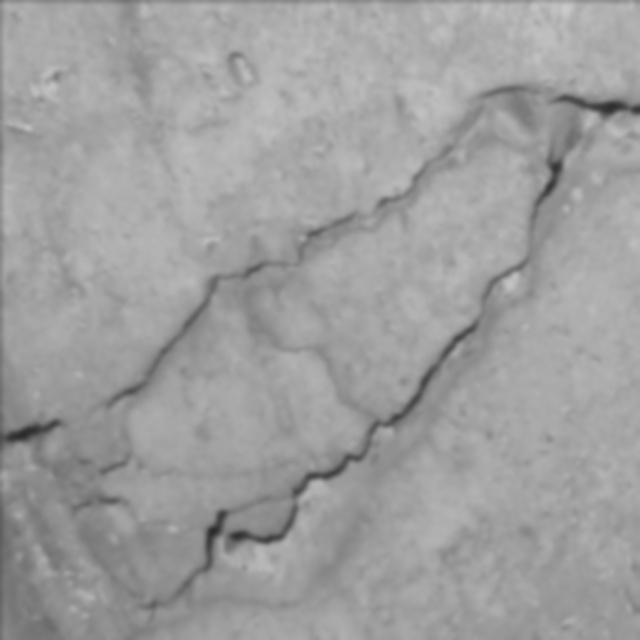SurfaceCrack: (1, 57, 639, 635)
